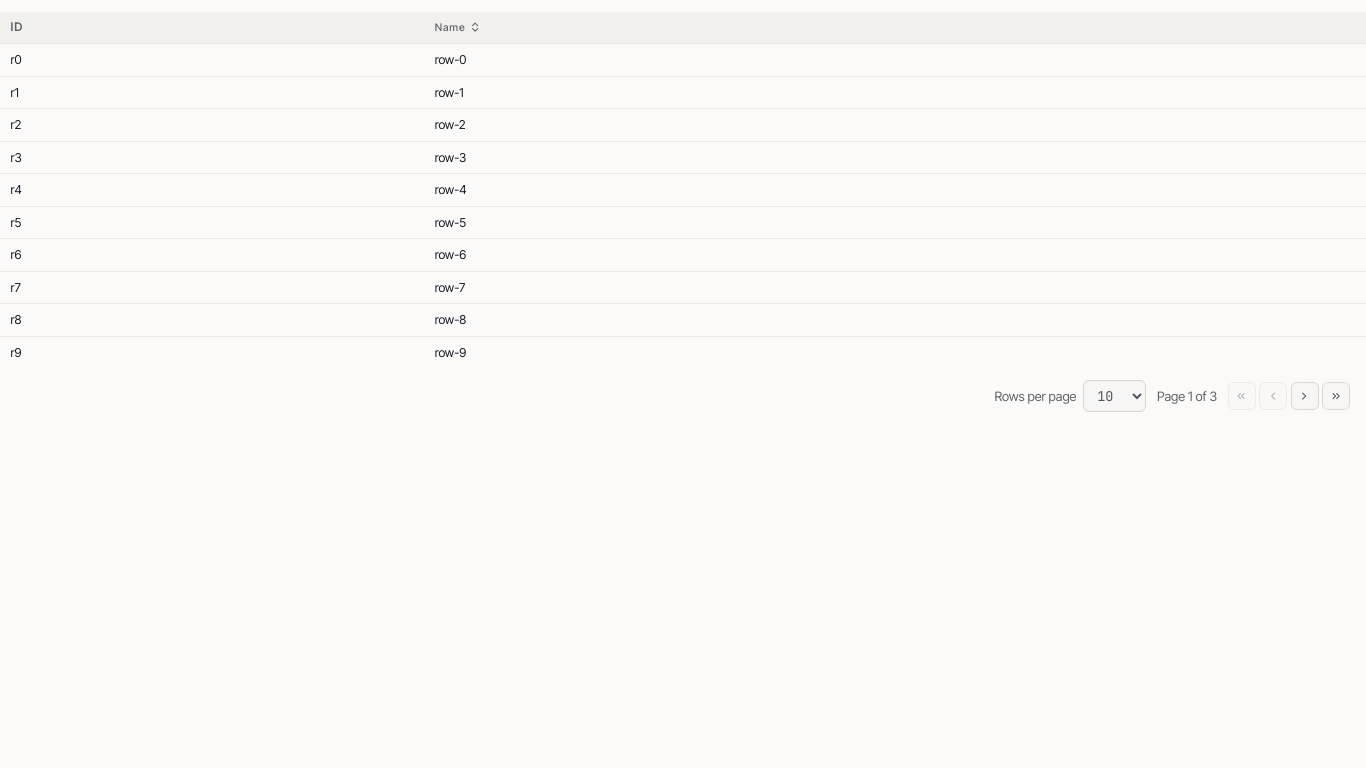
Scenario: DataTable › clamps the current page when a larger page size reduces page count
Click the button named "Go to next page".
click(1304, 396)  # box [1290,382,1318,410]
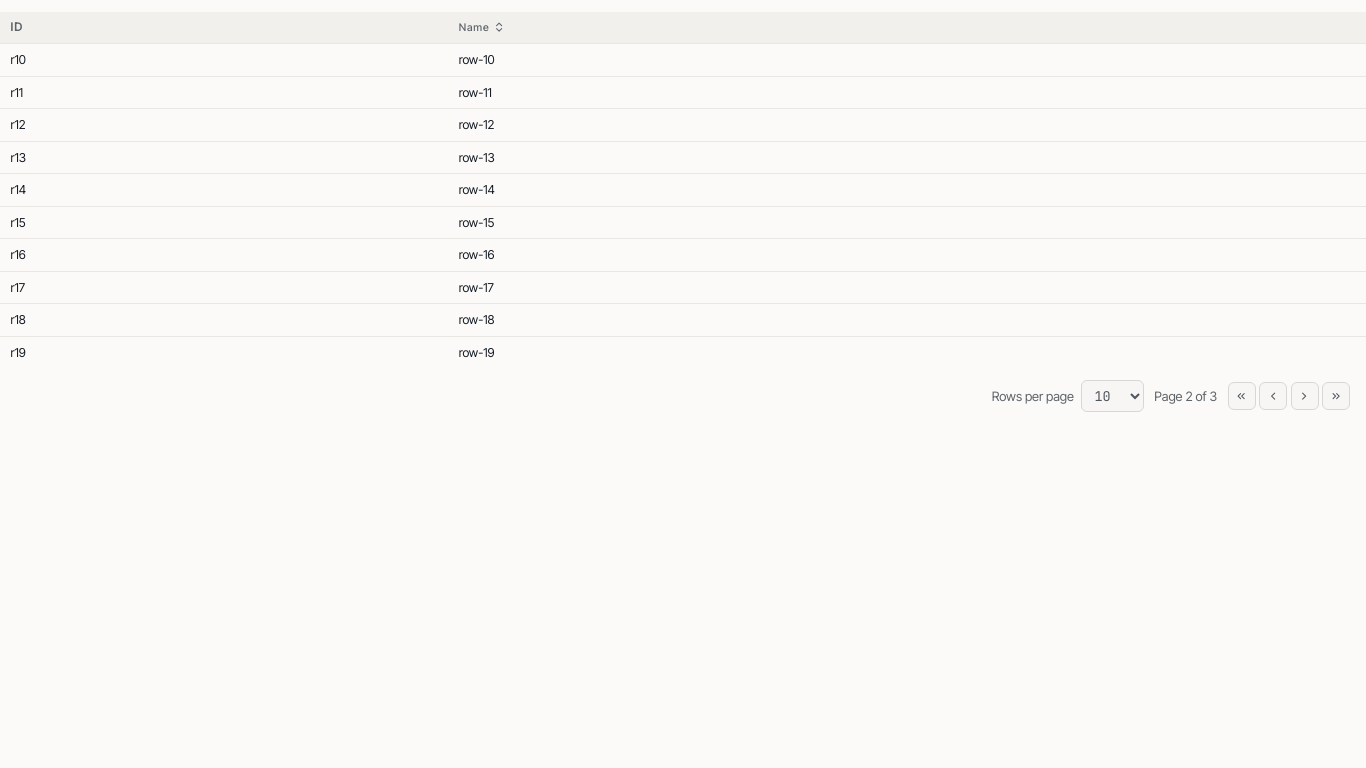
Click the button named "Go to next page".
click(1304, 396)  # box [1290,382,1318,410]
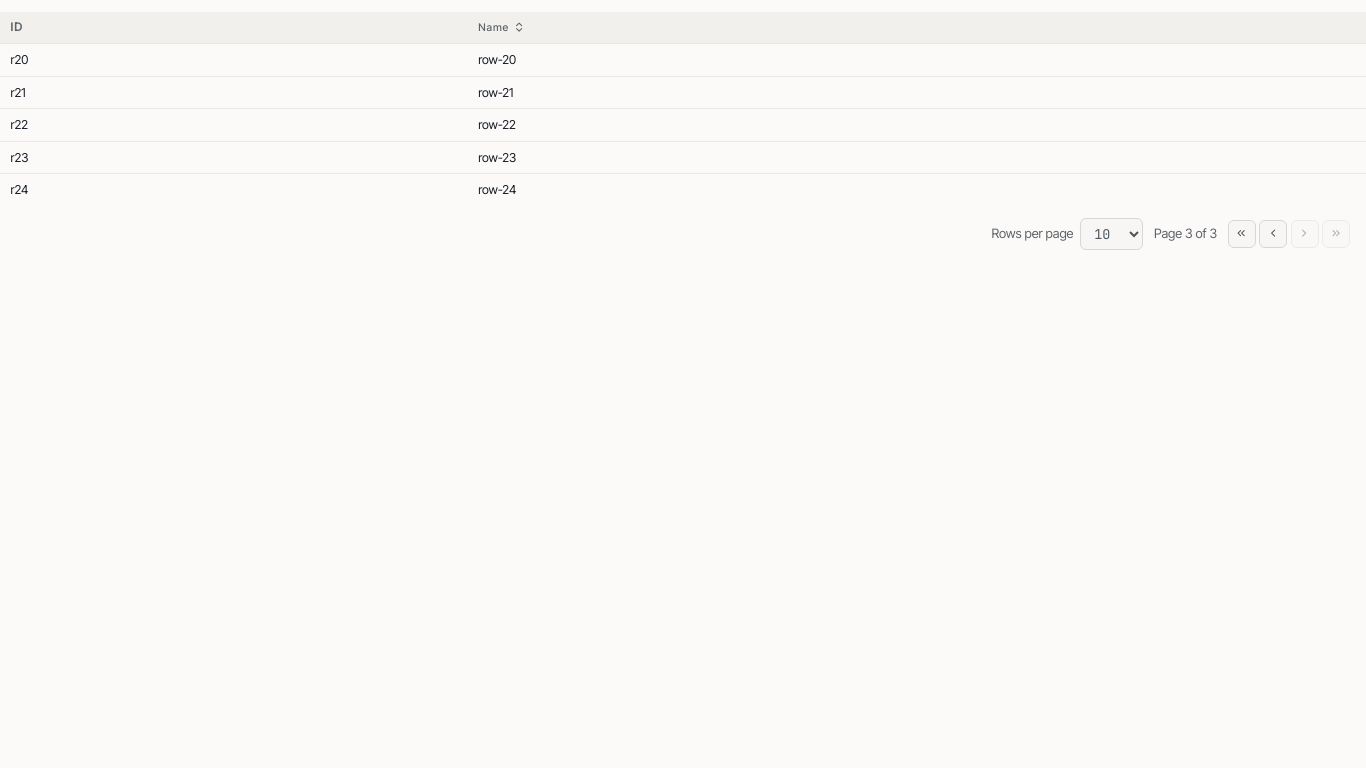
Select "25" in the dropdown named "Rows per page" at (1112, 234), box [1080,218,1143,250]
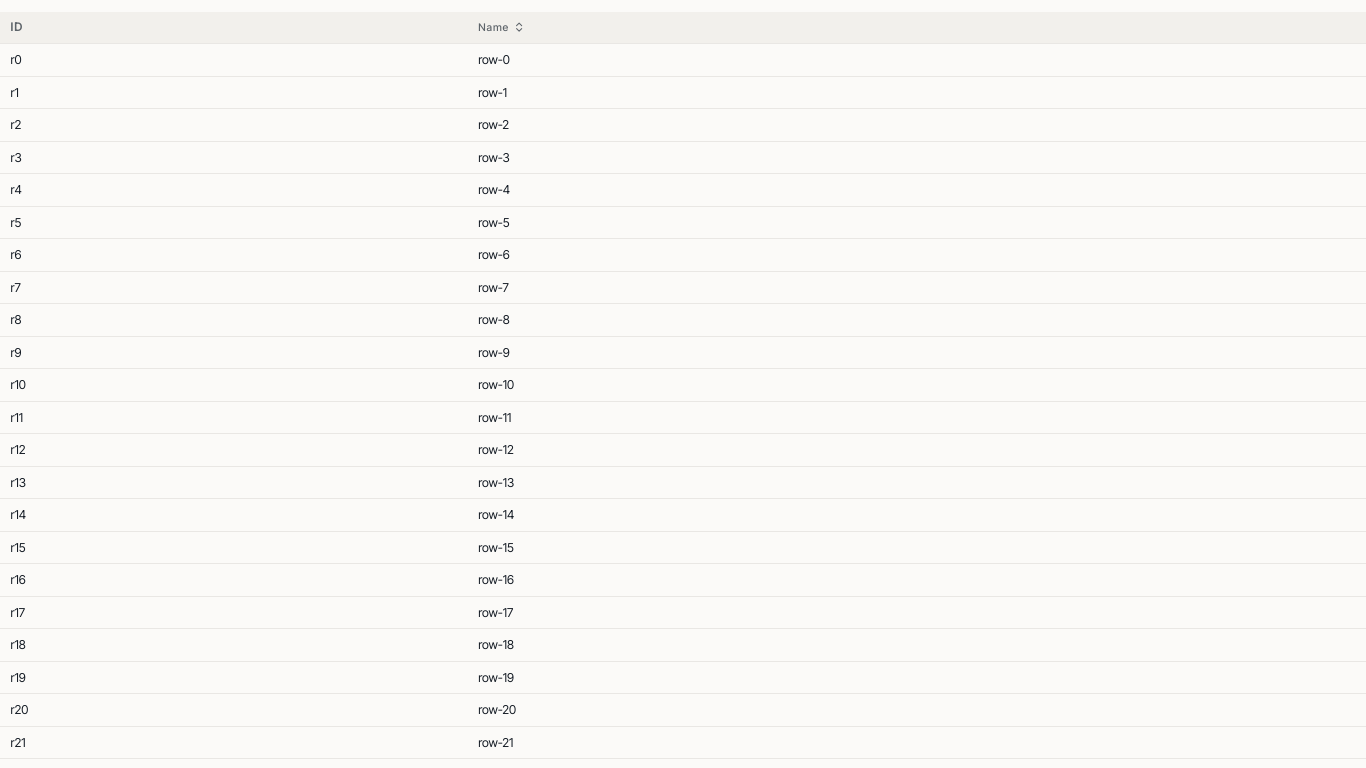
expect the text "row-0" is shown: met, box [468,44,1365,76]
